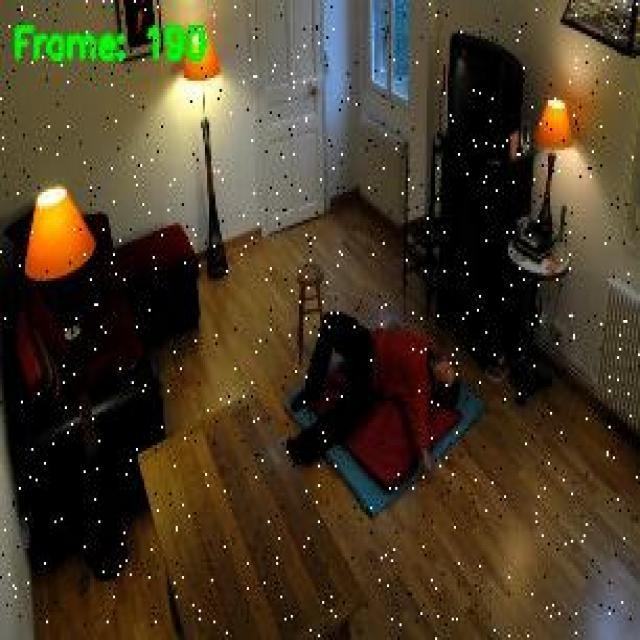fall: (286, 314, 459, 476)
